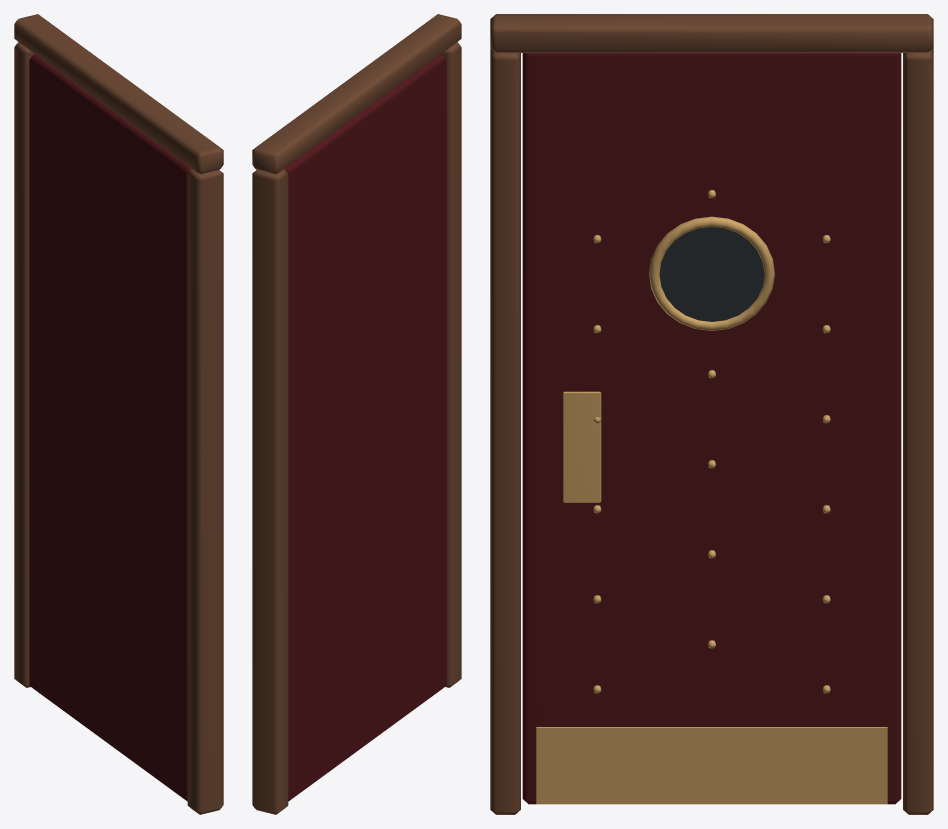
File: door_padded.glb
The picture shows the model from 3 angles, left to right: view 1: azimuth 30°, elevation 25°; view 2: azimuth 150°, elevation 25°; view 3: azimuth 270°, elevation 25°; orthographic projection. The views are drawn at different scales.
Visible parts, largest first — view 1: Mesh_Leaf, Mesh_JambR, Mesh_JambL, Mesh_Head; view 2: Mesh_Leaf, Mesh_JambL, Mesh_JambR, Mesh_Head; view 3: Mesh_Leaf, Mesh_KickPlate, Mesh_JambL, Mesh_JambR, Mesh_Head, Mesh_Porthole, Mesh_PushPlate, Mesh_PortRim.
Part boxes in pixels (bbox=[...]): Mesh_Leaf: bbox=[29, 54, 191, 801]; Mesh_JambR: bbox=[187, 169, 223, 814]; Mesh_JambL: bbox=[14, 42, 34, 687]; Mesh_Head: bbox=[14, 14, 223, 174]; Mesh_Leaf: bbox=[284, 54, 446, 801]; Mesh_JambL: bbox=[252, 169, 288, 814]; Mesh_JambR: bbox=[441, 42, 461, 687]; Mesh_Head: bbox=[252, 14, 461, 174]; Mesh_Leaf: bbox=[522, 53, 901, 804]; Mesh_KickPlate: bbox=[536, 727, 887, 804]; Mesh_JambL: bbox=[903, 48, 933, 814]; Mesh_JambR: bbox=[490, 48, 520, 814]; Mesh_Head: bbox=[490, 14, 933, 52]; Mesh_Porthole: bbox=[659, 227, 764, 321]; Mesh_PushPlate: bbox=[563, 391, 601, 502]; Mesh_PortRim: bbox=[649, 216, 774, 330].
Bounding box in the file's own units: 0.1 × 2.28 × 1.16.
